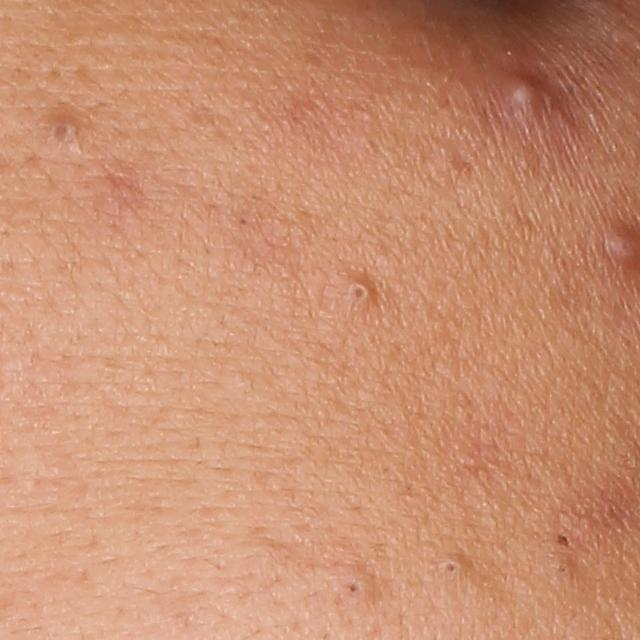comedo: (338, 275, 374, 318), (44, 113, 83, 152), (334, 571, 377, 606), (434, 553, 467, 582), (555, 530, 573, 548)
